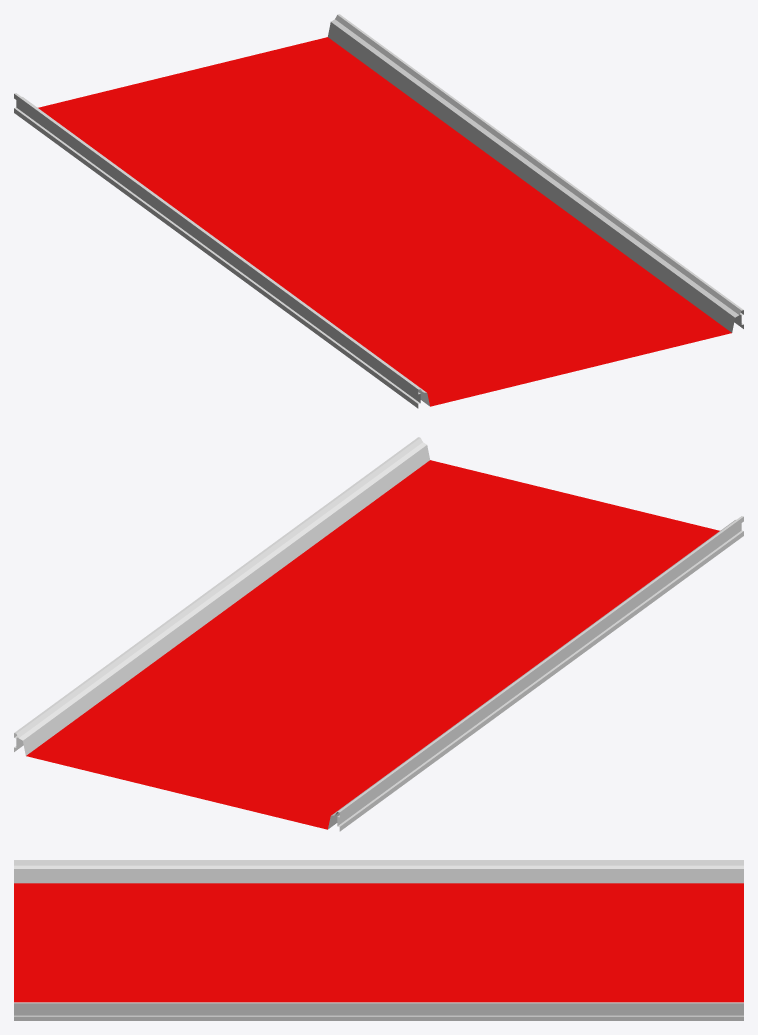
File: floor 3.fbx
3 renders of one model, top to bottom at view 1: azimuth 30°, elevation 25°; view 2: azimuth 150°, elevation 25°; view 3: azimuth 270°, elevation 25°, orthographic. The views are drawn at different scales.
Visible parts, largest first — view 1: floor_12; view 2: floor_12; view 3: floor_12.
Boxes of the visible parts, bbox=[...] form: floor_12: bbox=[14, 14, 743, 408]; floor_12: bbox=[14, 437, 743, 831]; floor_12: bbox=[14, 860, 743, 1020].
Bounding box in the file's own units: 279 × 16.45 × 600.
